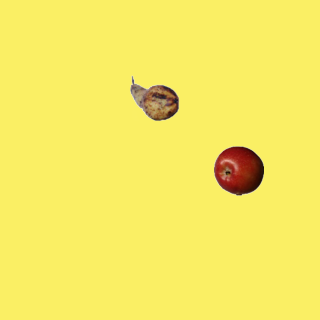Apple Braeburn: (213, 145, 263, 195)
Pear Abate: (129, 73, 179, 123)
